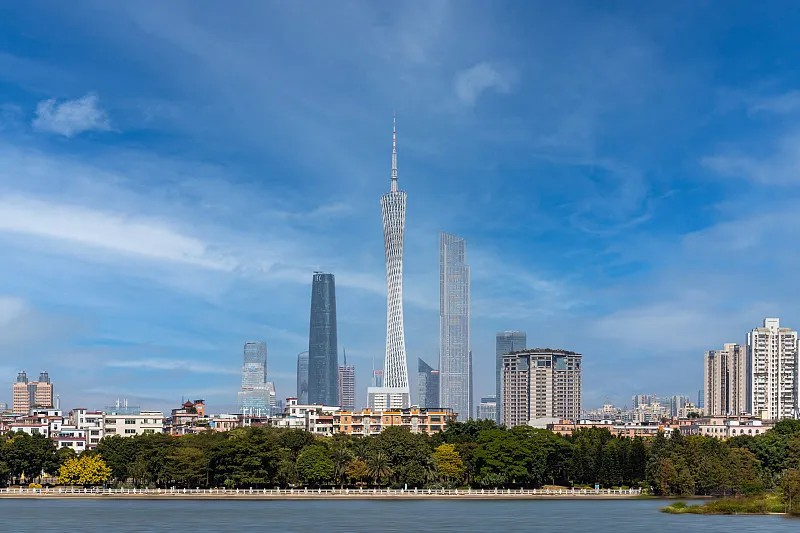Canton: (379, 111, 410, 387)
